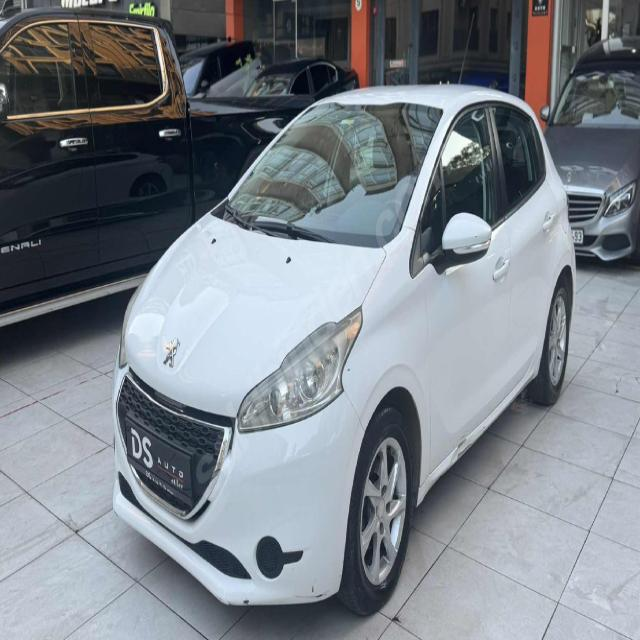pegout: (161, 332, 183, 370)
